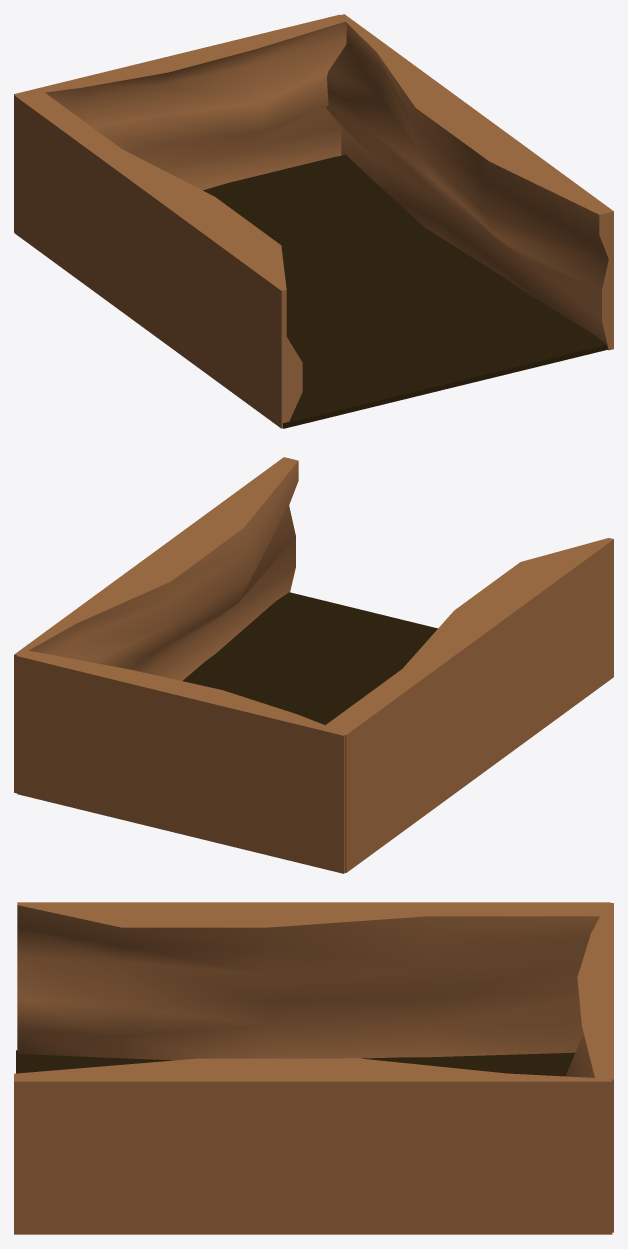
File: Terrain_Final2.FBX
The picture shows the model from 3 angles, top to bottom: view 1: azimuth 30°, elevation 25°; view 2: azimuth 150°, elevation 25°; view 3: azimuth 270°, elevation 25°; orthographic projection. The views are drawn at different scales.
Parts seen in each view (by area): view 1: Box012; view 2: Box012; view 3: Box012.
Boxes of the visible parts, left/top/right/bottom form: Box012: left=14, top=14, right=613, bottom=428; Box012: left=14, top=457, right=613, bottom=873; Box012: left=14, top=902, right=613, bottom=1234.
Size of the model in its own units: 3957 by 5595 by 1575.
